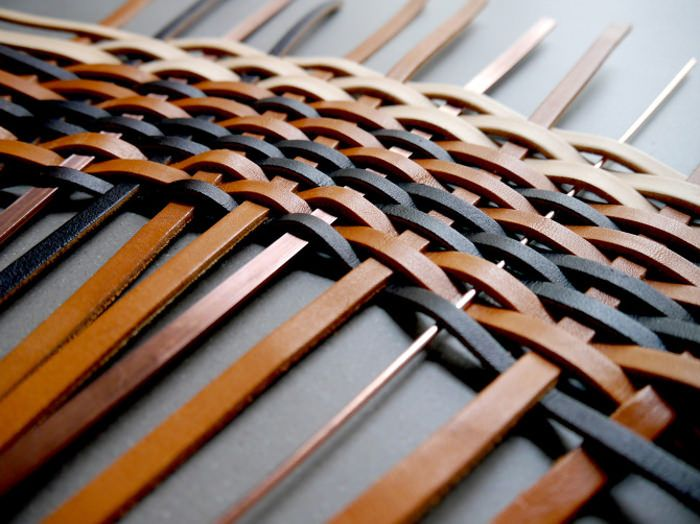cuero: (2, 2, 700, 524)
